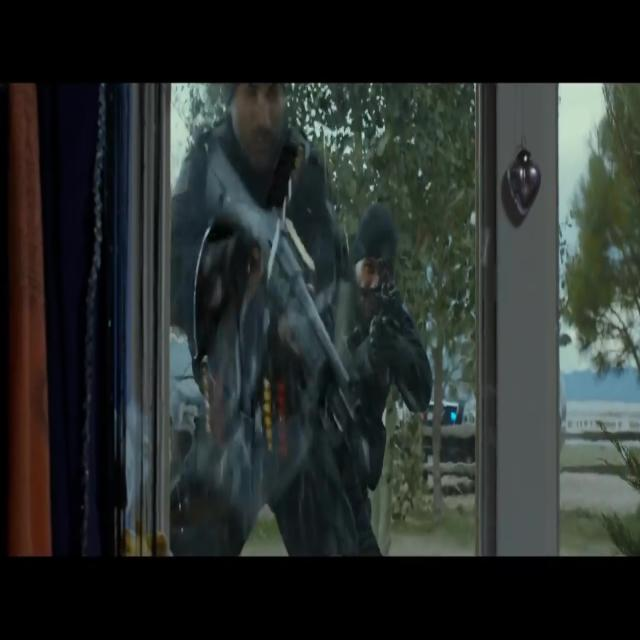Weapon: (189, 112, 446, 490)
